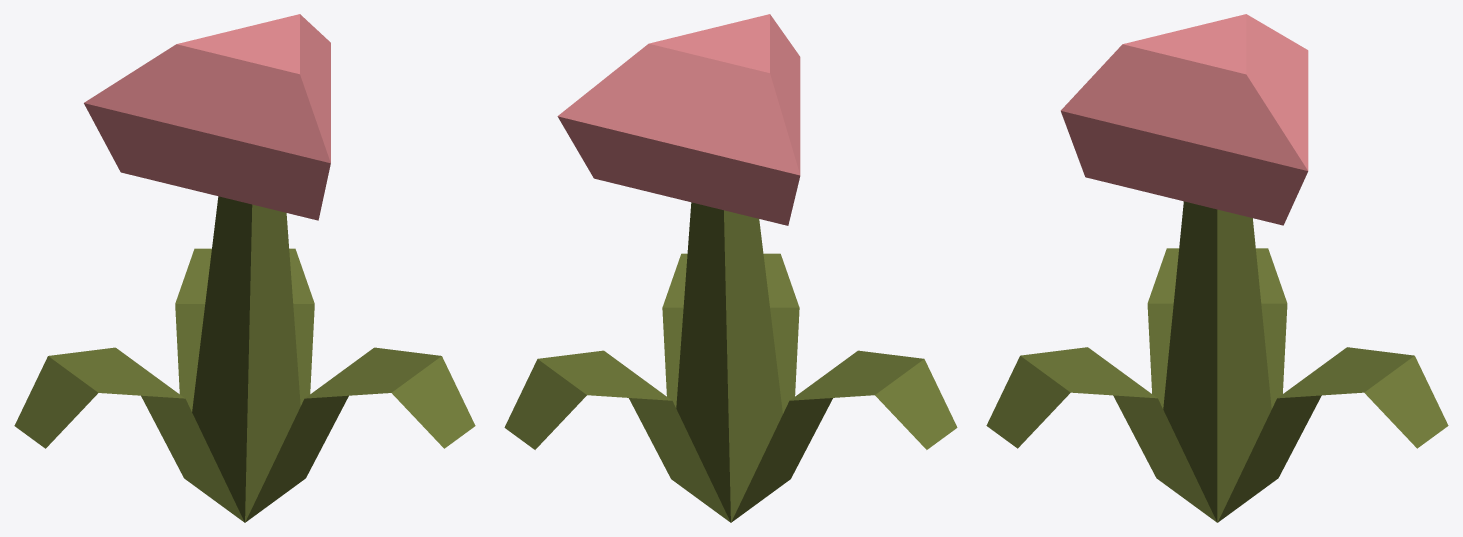
Rendered from fleur-rouge-2.glb.
3 views of the same model, side by side, from view 1: azimuth 30°, elevation 25°; view 2: azimuth 150°, elevation 25°; view 3: azimuth 270°, elevation 25° (orthographic).
Parts seen in each view (by area): view 1: flower_redB; view 2: flower_redB; view 3: flower_redB.
Part boxes in pixels (bbox=[...]): flower_redB: bbox=[14, 14, 475, 522]; flower_redB: bbox=[504, 14, 957, 522]; flower_redB: bbox=[986, 14, 1448, 522].
Size of the model in its own units: 0.361 by 0.45 by 0.4164.
